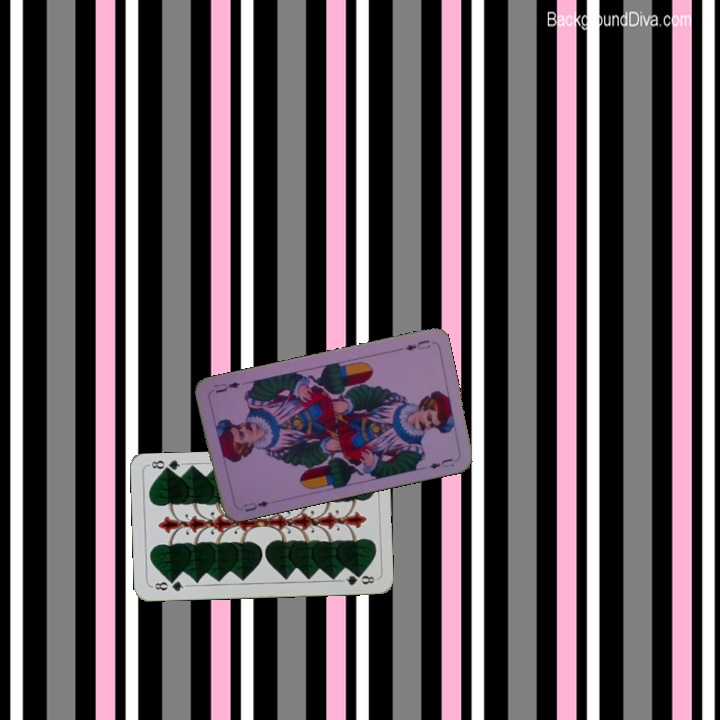EU: (240, 497, 272, 514), (401, 336, 433, 353)
G8: (148, 576, 189, 594)
